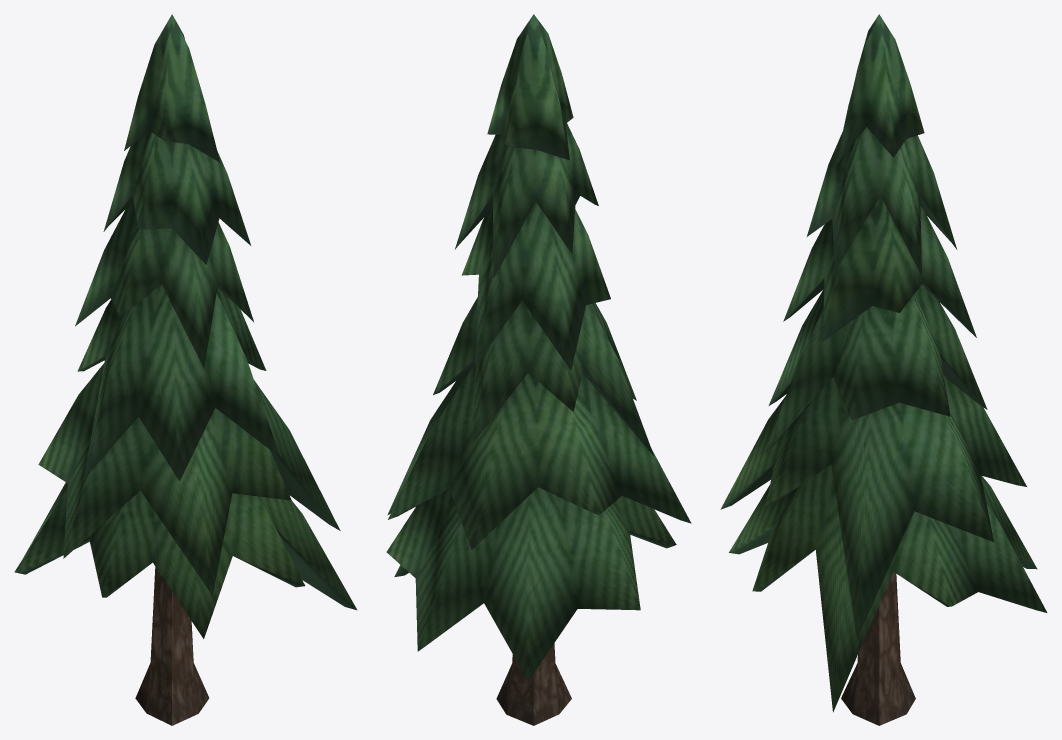
Rendered from pine_tall.glb.
3 renders of one model, left to right at view 1: azimuth 30°, elevation 25°; view 2: azimuth 150°, elevation 25°; view 3: azimuth 270°, elevation 25°, orthographic.
Parts seen in each view (by area): view 1: root_mesh; view 2: root_mesh; view 3: root_mesh.
Boxes of the visible parts, x1,y1,x2,y2 form: root_mesh: (14,14,357,725); root_mesh: (386,14,691,725); root_mesh: (720,14,1047,725).
Size of the model in its own units: 0.8614 by 1.93 by 0.8254.
Materials: 1 (1 with a texture image).
